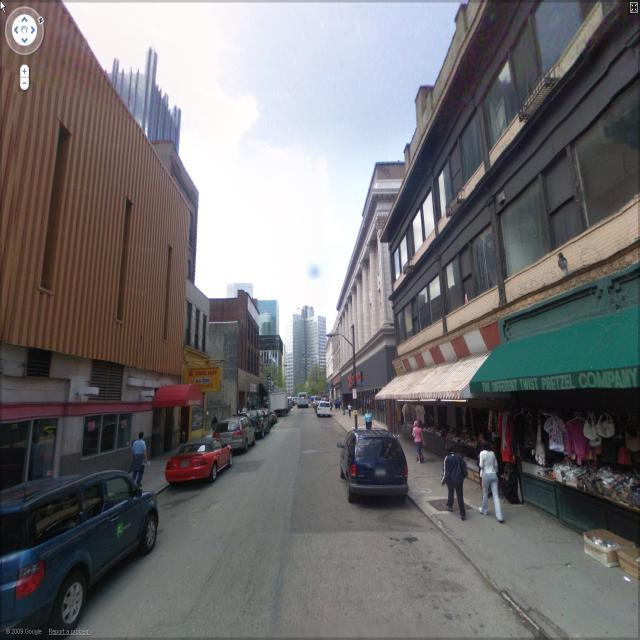b_1: (408, 5, 640, 398), (0, 18, 186, 426), (348, 162, 414, 431), (103, 33, 181, 157), (158, 140, 202, 294), (214, 284, 263, 404), (287, 296, 335, 400), (253, 283, 291, 403), (326, 316, 345, 412)
